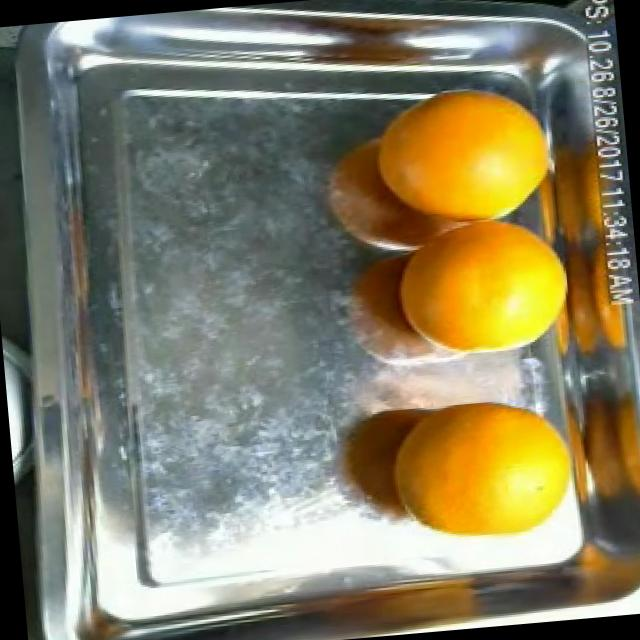Fruit: (366, 196, 584, 371), (384, 386, 588, 556)
